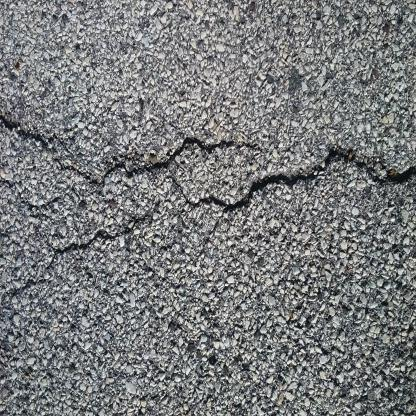Cracks: (173, 133, 415, 219), (0, 108, 246, 189), (52, 205, 151, 264)
